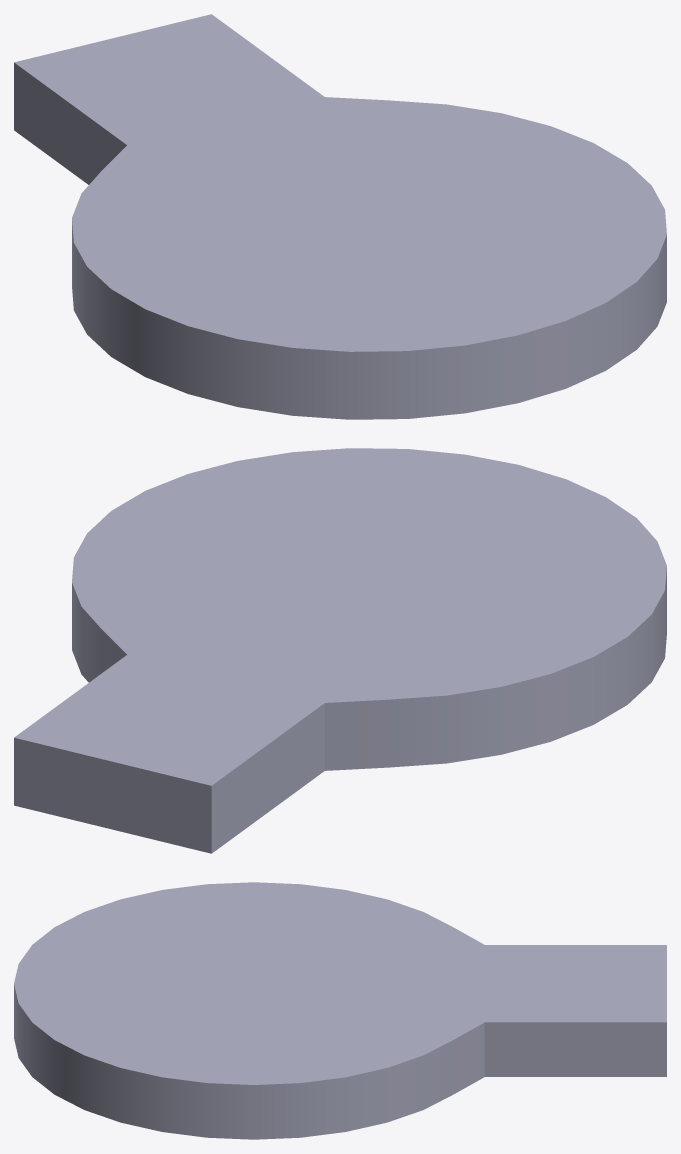
The model's file is Platform_Circle (1).fbx.
3 views of the same model, one above another, from view 1: azimuth 30°, elevation 25°; view 2: azimuth 150°, elevation 25°; view 3: azimuth 270°, elevation 25° (orthographic). The views are drawn at different scales.
Visible parts, largest first — view 1: Circle; view 2: Circle; view 3: Circle.
Part boxes in pixels (box(x1,y1,x2,y2)): Circle: box(14, 14, 666, 419); Circle: box(14, 448, 666, 853); Circle: box(14, 882, 666, 1139).
Size of the model in its own units: 5224 by 657 by 7108.
